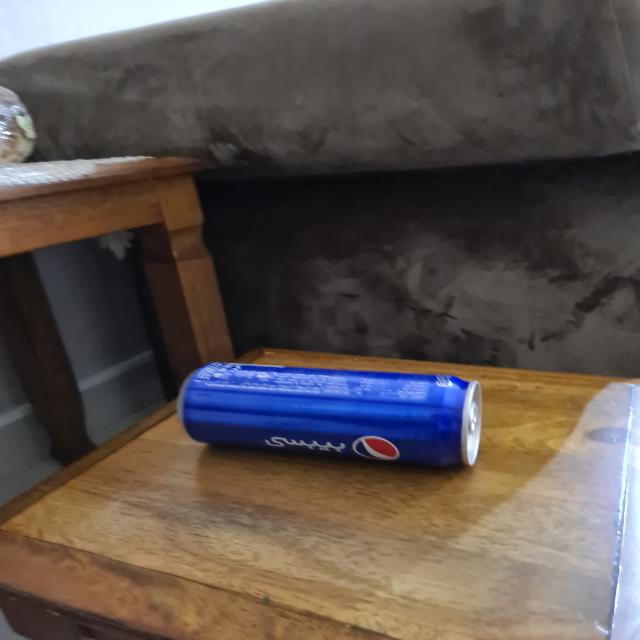non-organic waste: (172, 356, 485, 478)
